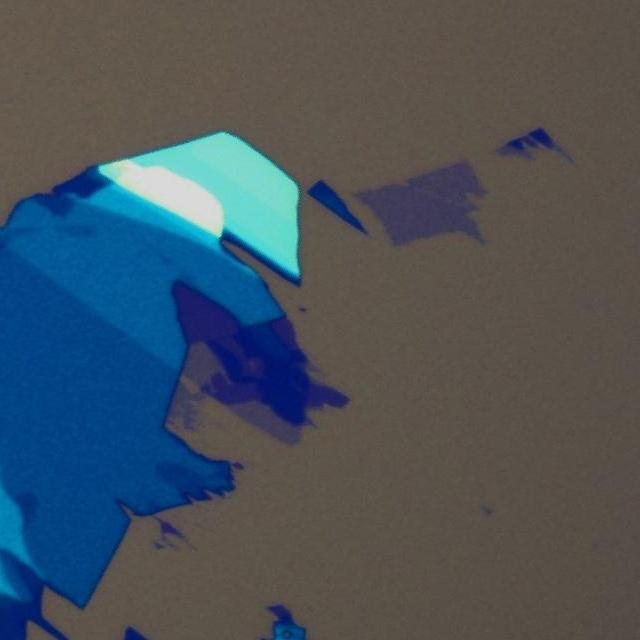monolayer-eWW4: (348, 154, 498, 250), (231, 400, 300, 448), (178, 342, 224, 384)
